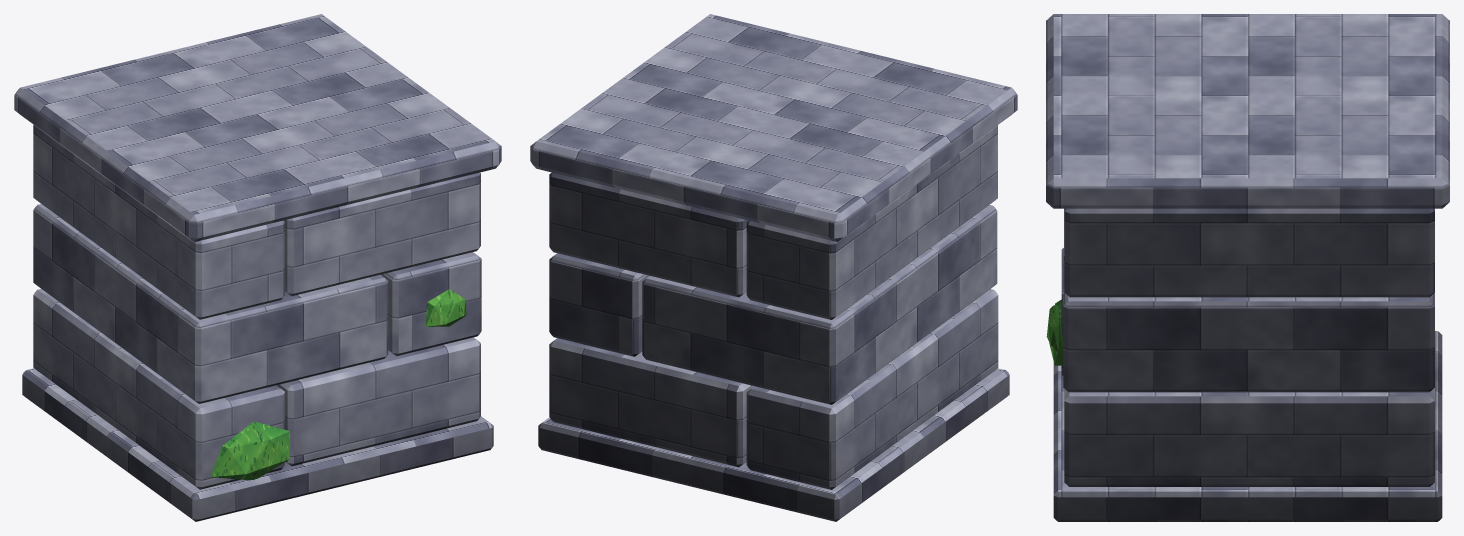
The model's file is wall.glb.
3 views of the same model, side by side, from view 1: azimuth 30°, elevation 25°; view 2: azimuth 150°, elevation 25°; view 3: azimuth 270°, elevation 25° (orthographic). The views are drawn at different scales.
Parts seen in each view (by area): view 1: wall; view 2: wall; view 3: wall.
Part boxes in pixels (bbox=[...]): wall: bbox=[14, 14, 501, 521]; wall: bbox=[530, 14, 1017, 521]; wall: bbox=[1046, 14, 1449, 521].
Bounding box in the file's own units: 1.08 × 1.02 × 1.08.
Materials: 3 (3 with a texture image).
